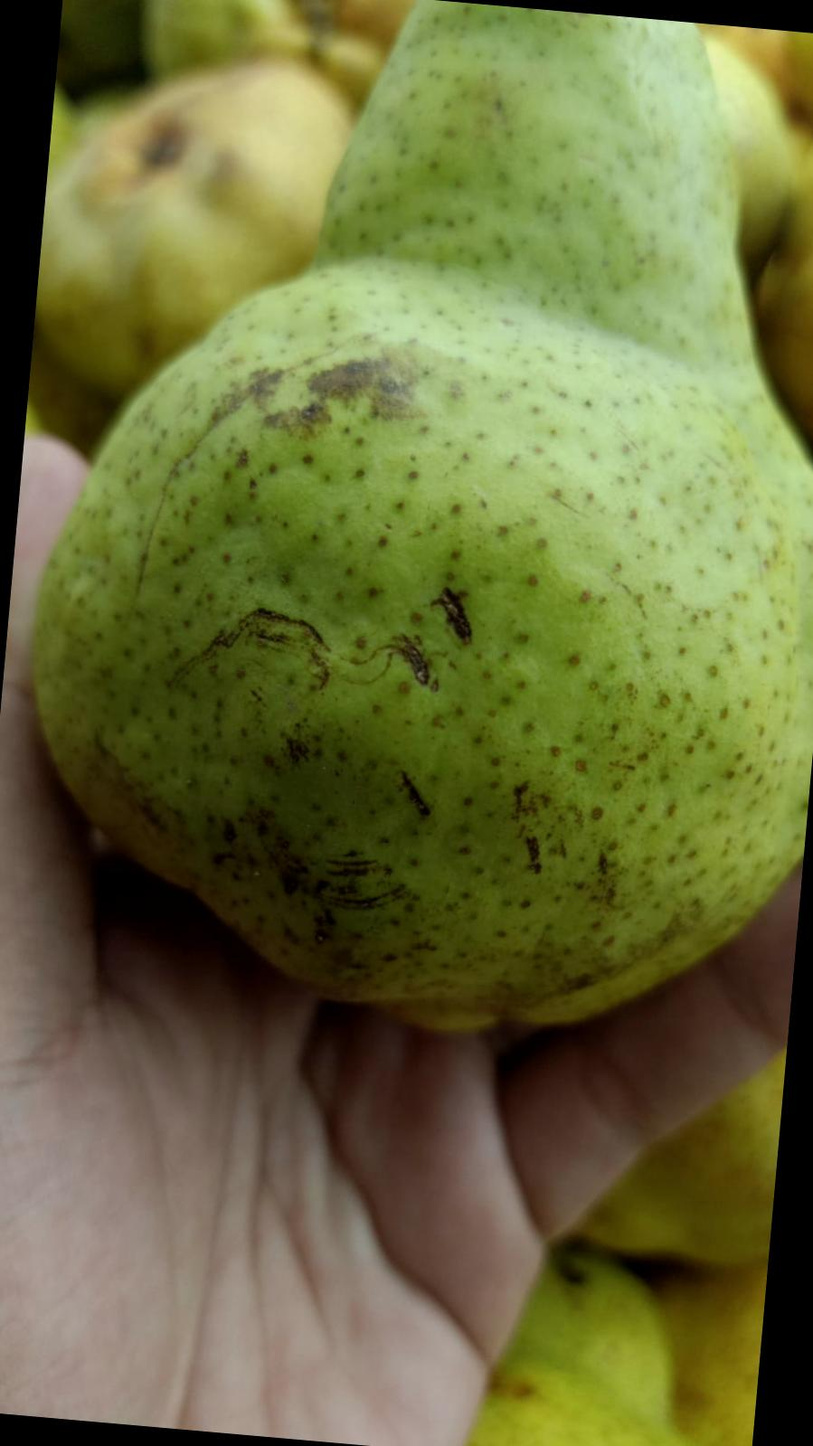Pear Unripe: (112, 33, 711, 1011)
